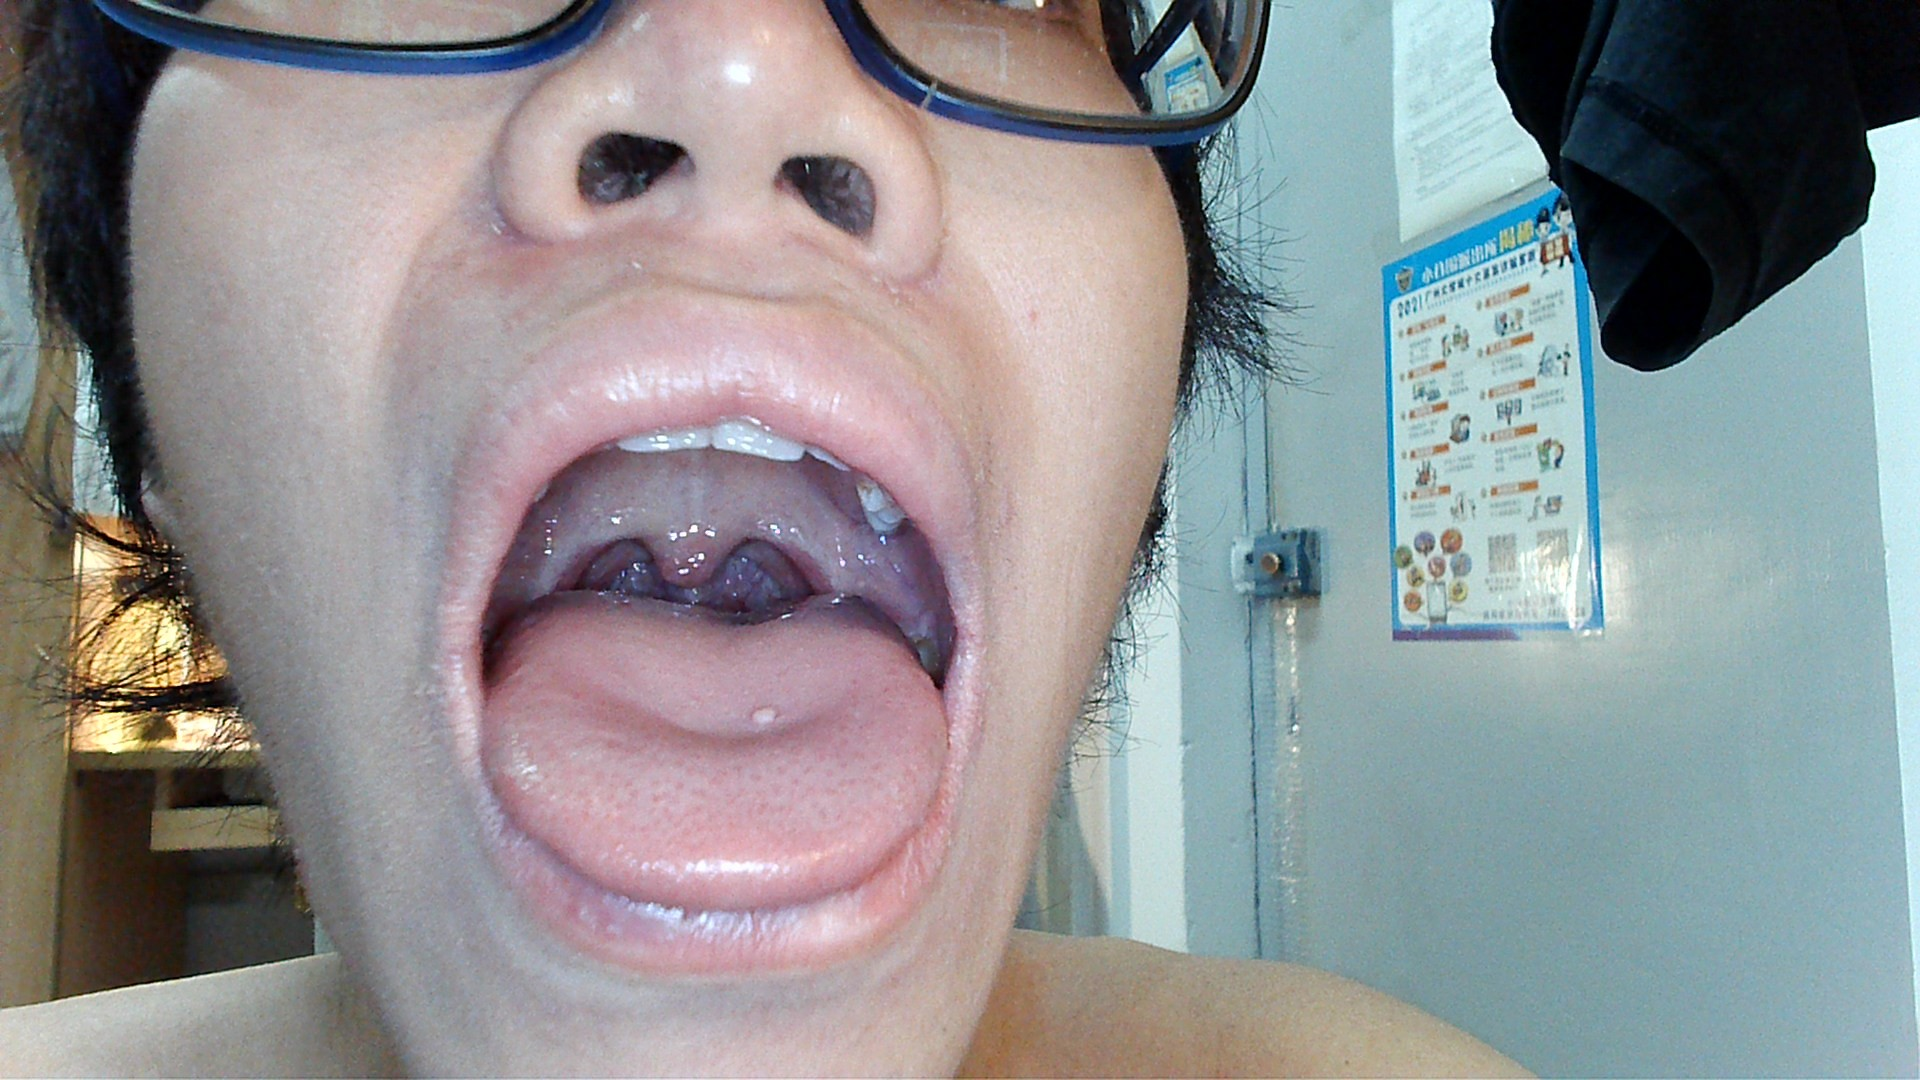throat: (766, 488, 833, 592), (550, 508, 611, 588)
